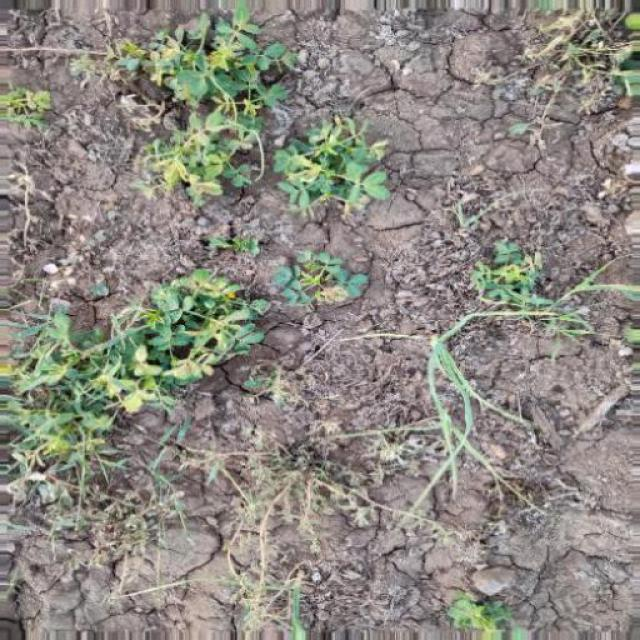weed: (81, 14, 399, 206), (6, 274, 324, 446), (491, 3, 640, 152), (452, 228, 590, 358)
